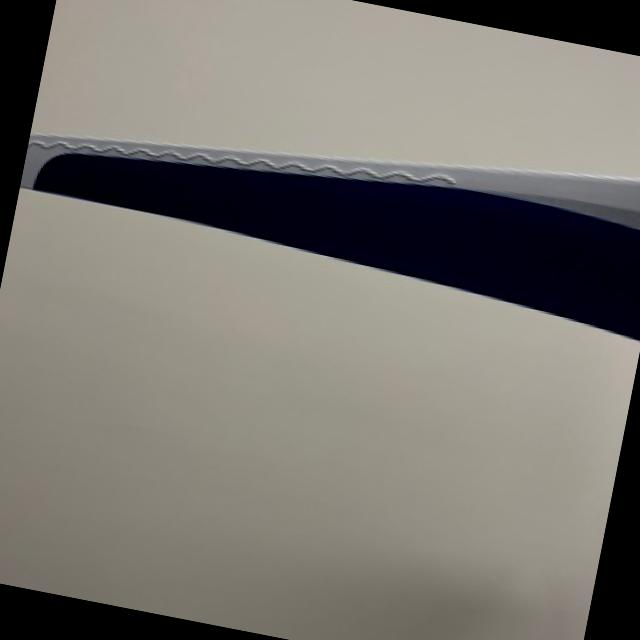healthy: (21, 133, 640, 336)
